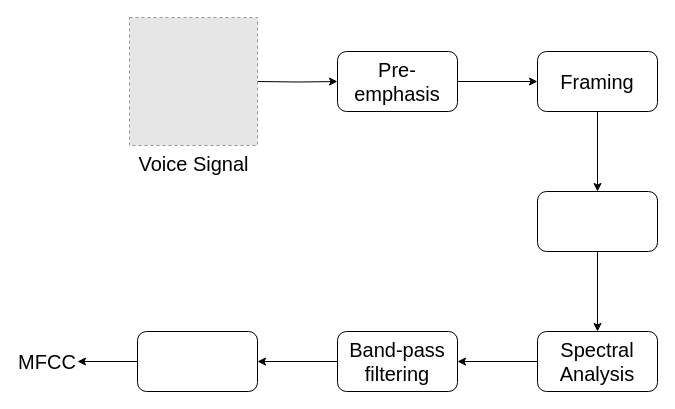
This 675x409 diagram has some shape labels left out. Grey dashed boxes stand in for pictures. Each missing label, with the centre of its shape:
DCT: the point at 197,361
Windowing: the point at 597,221
